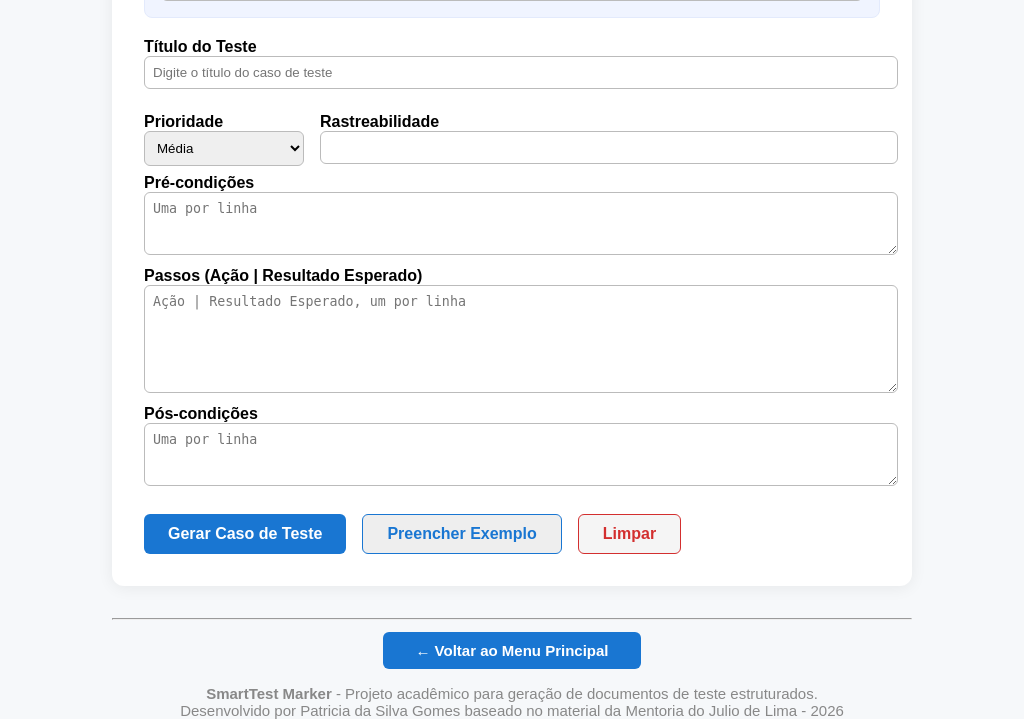
Scenario: Frontend — Gerador de Casos de Teste › Geração de caso de teste › deve gerar e exibir um caso de teste na sidebar
(page scrolled)
Click the button "Preencher Exemplo": (462,534) [362,514,561,554]
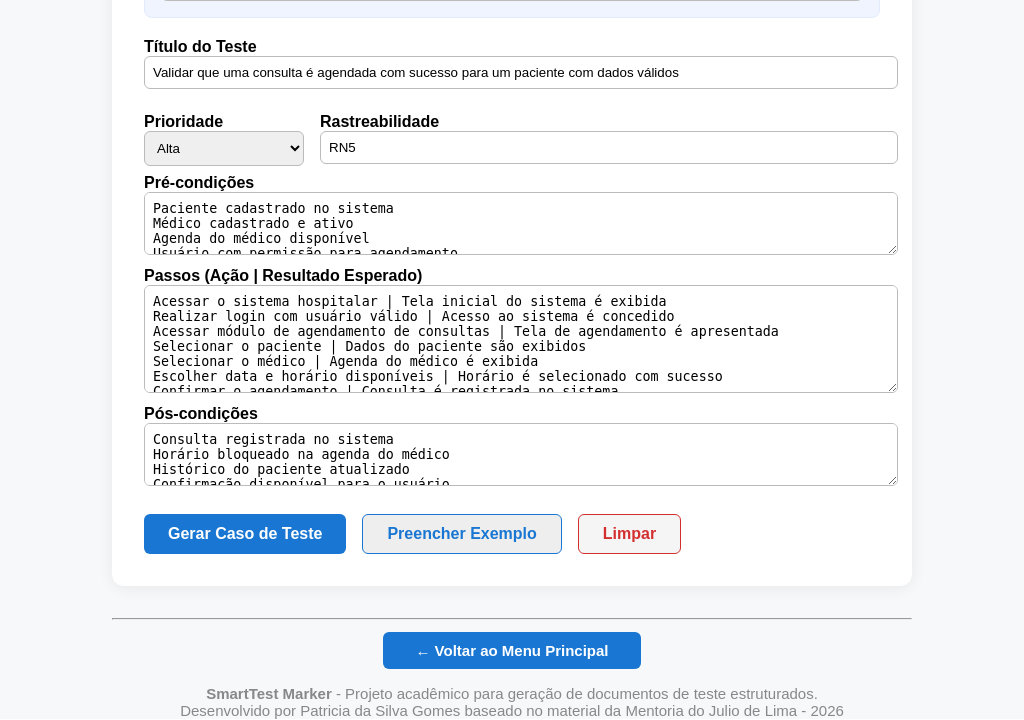
Click the button "Gerar Caso de Teste": (245,534) [144,514,346,554]
(page scrolled)
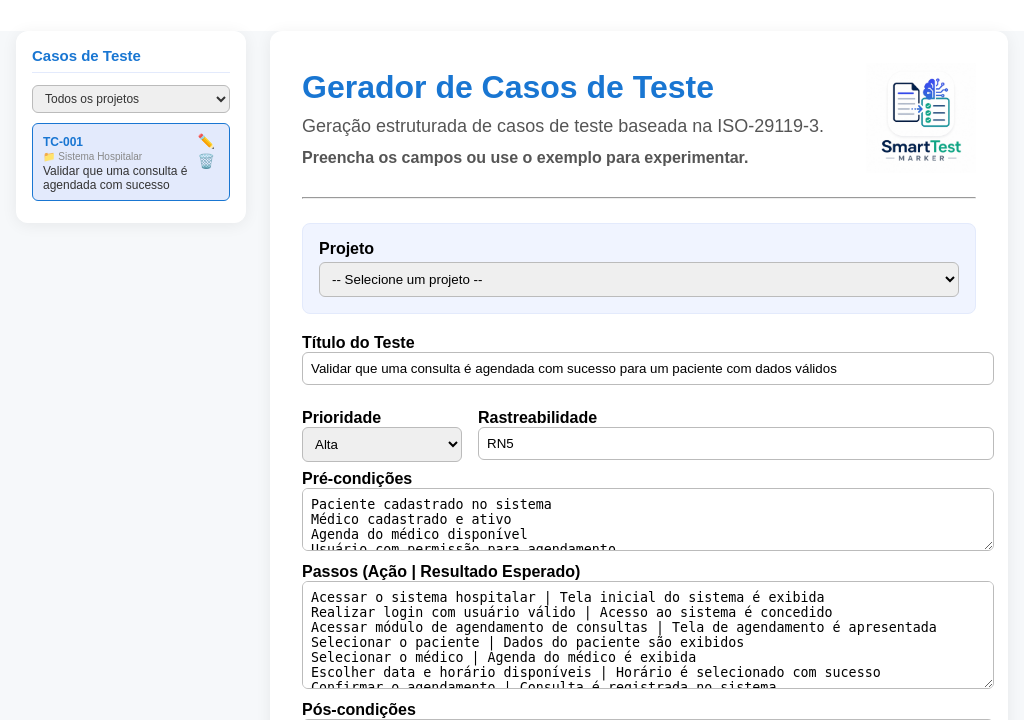
expect the text "TC-" is shown: met, box [43,135,83,149]
